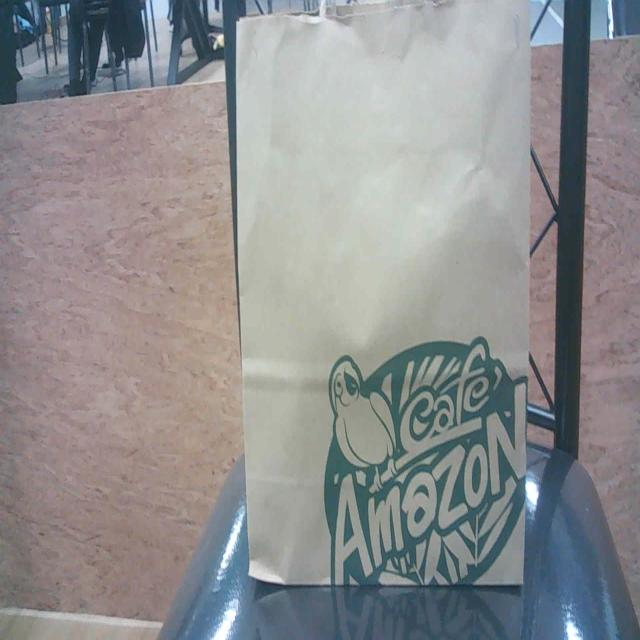bag: (233, 21, 524, 586)
